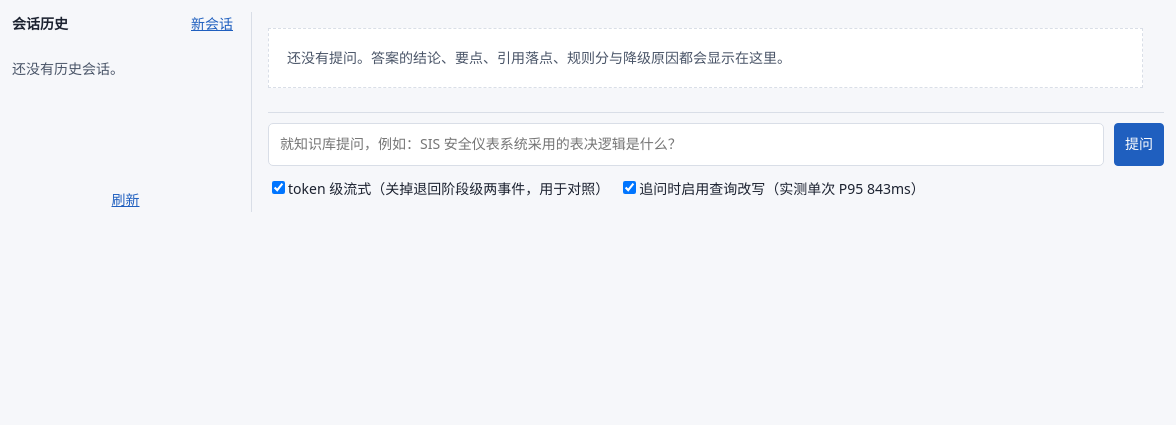
Test: 问答页的三态渲染 › 真没资料时不许说成待复核（反面对照）
Type "表决逻辑是什么？" into the search field named "问题". click: {"x": 686, "y": 145}
box: [268,123,1104,166]
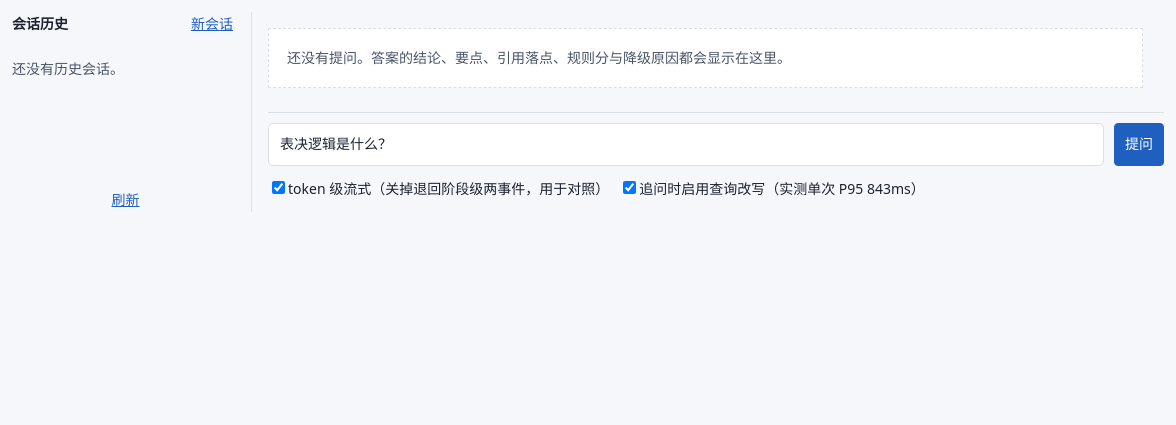
Click the button "提问". click: {"x": 1139, "y": 145}
box: [1114,123,1164,166]
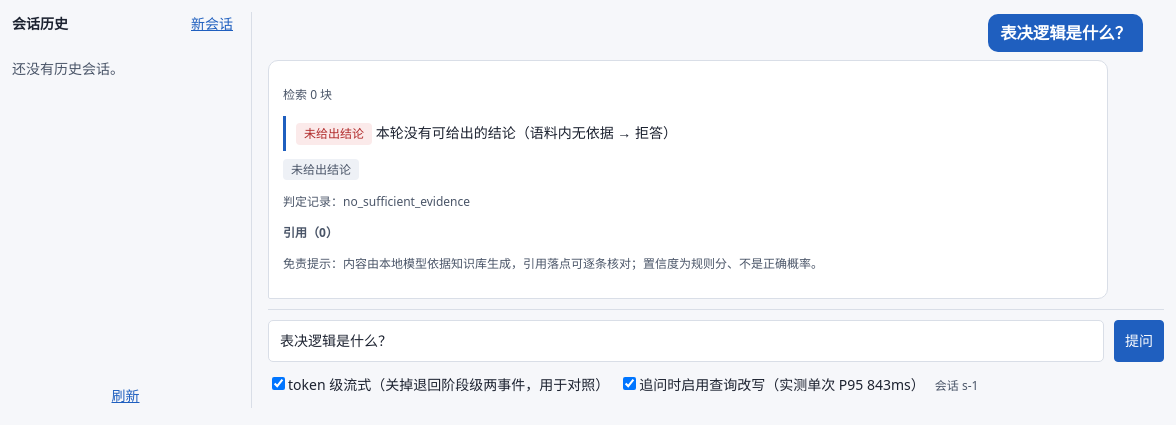
Expected: the text with test id "refusal-reason" shows "语料内无依据", [516,123,677,142]
